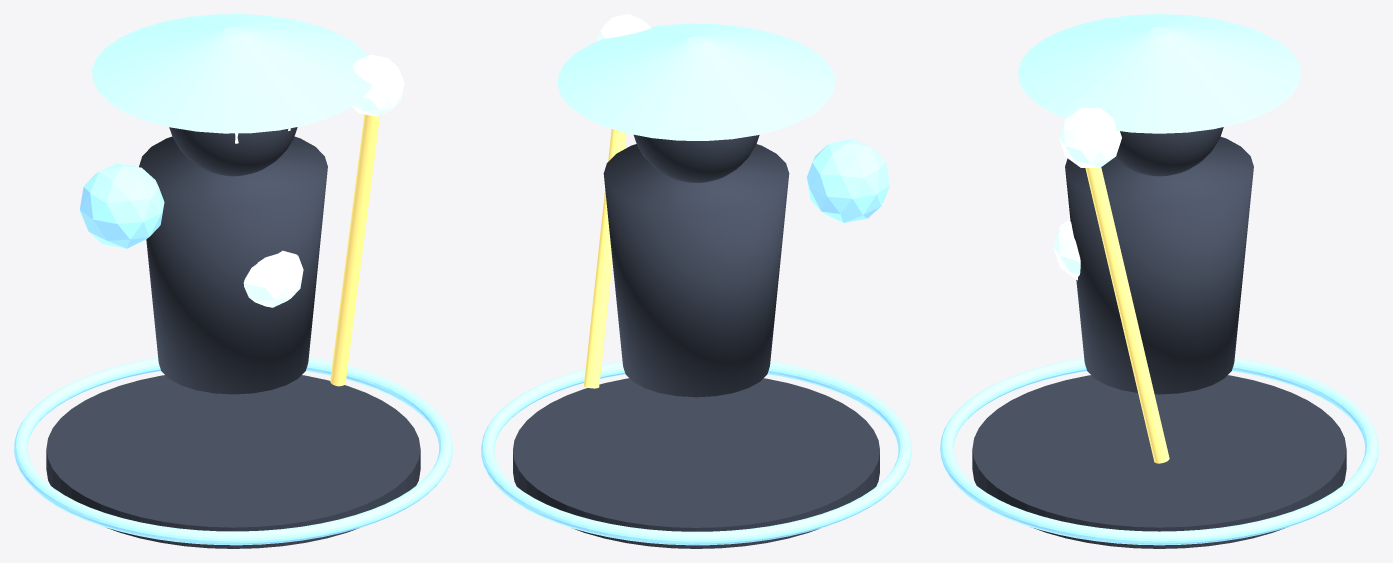
File: kai.glb
The picture shows the model from 3 angles, left to right: view 1: azimuth 30°, elevation 25°; view 2: azimuth 150°, elevation 25°; view 3: azimuth 270°, elevation 25°; orthographic projection.
Visible parts, largest first — view 1: AbilityPedestal, AgentTorso, RoninKasaHat, AbilityAuraRing, Pet_KAI, SignatureWeapon, AgentHead, AgentCore, WeaponApex; view 2: AbilityPedestal, AgentTorso, RoninKasaHat, AbilityAuraRing, Pet_KAI, AgentHead, SignatureWeapon, WeaponApex; view 3: AbilityPedestal, AgentTorso, RoninKasaHat, AbilityAuraRing, SignatureWeapon, AgentHead, WeaponApex, AgentCore.
Boxes of the visible parts, x1,y1,x2,y2 form: AbilityPedestal: [46, 375, 420, 548]; AgentTorso: [139, 136, 327, 394]; RoninKasaHat: [92, 14, 372, 133]; AbilityAuraRing: [14, 357, 452, 545]; Pet_KAI: [79, 163, 164, 248]; SignatureWeapon: [330, 114, 379, 386]; AgentHead: [169, 127, 297, 176]; AgentCore: [243, 250, 303, 307]; WeaponApex: [352, 54, 404, 116]; AbilityPedestal: [513, 378, 879, 548]; AgentTorso: [603, 144, 789, 397]; RoninKasaHat: [557, 23, 835, 140]; AbilityAuraRing: [481, 361, 911, 545]; Pet_KAI: [806, 139, 889, 222]; AgentHead: [633, 134, 759, 182]; SignatureWeapon: [584, 129, 626, 388]; WeaponApex: [596, 14, 650, 41]; AbilityPedestal: [972, 375, 1346, 548]; AgentTorso: [1065, 137, 1253, 394]; RoninKasaHat: [1018, 14, 1300, 133]; AbilityAuraRing: [940, 357, 1378, 545]; SignatureWeapon: [1085, 167, 1169, 463]; AgentHead: [1114, 127, 1223, 176]; WeaponApex: [1059, 108, 1121, 167]; AgentCore: [1053, 219, 1080, 280].
Size of the model in its own units: 2.23 by 2.46 by 2.23.
